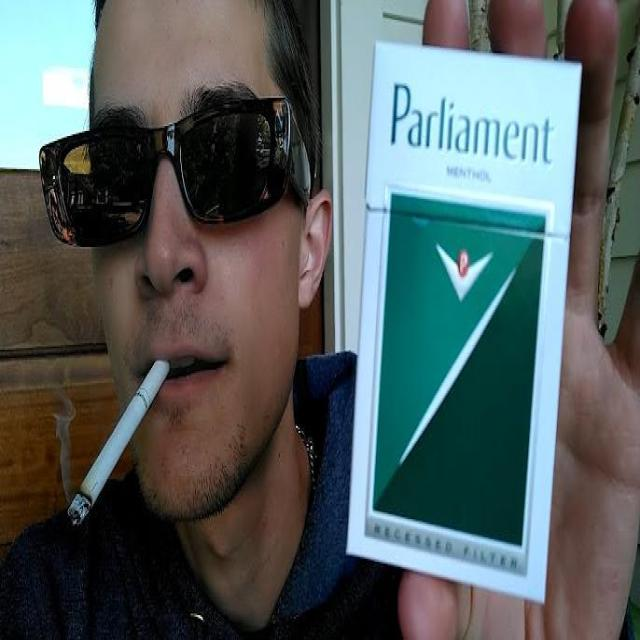cigarette: (68, 360, 172, 527)
